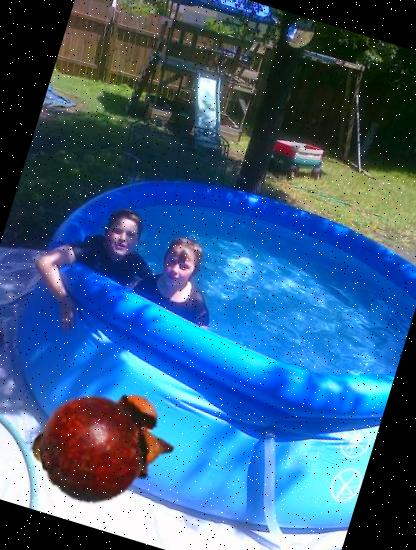Mangostan: (23, 362, 190, 530)
Peach: (21, 396, 122, 496)
